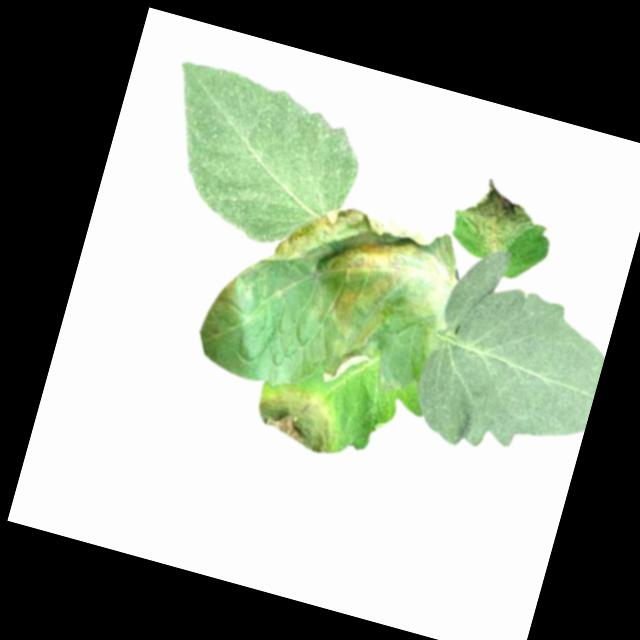Late_blight: (248, 187, 469, 361), (452, 173, 544, 263), (250, 379, 344, 459), (320, 343, 372, 391)
healthy: (406, 239, 624, 479), (139, 57, 377, 265)
